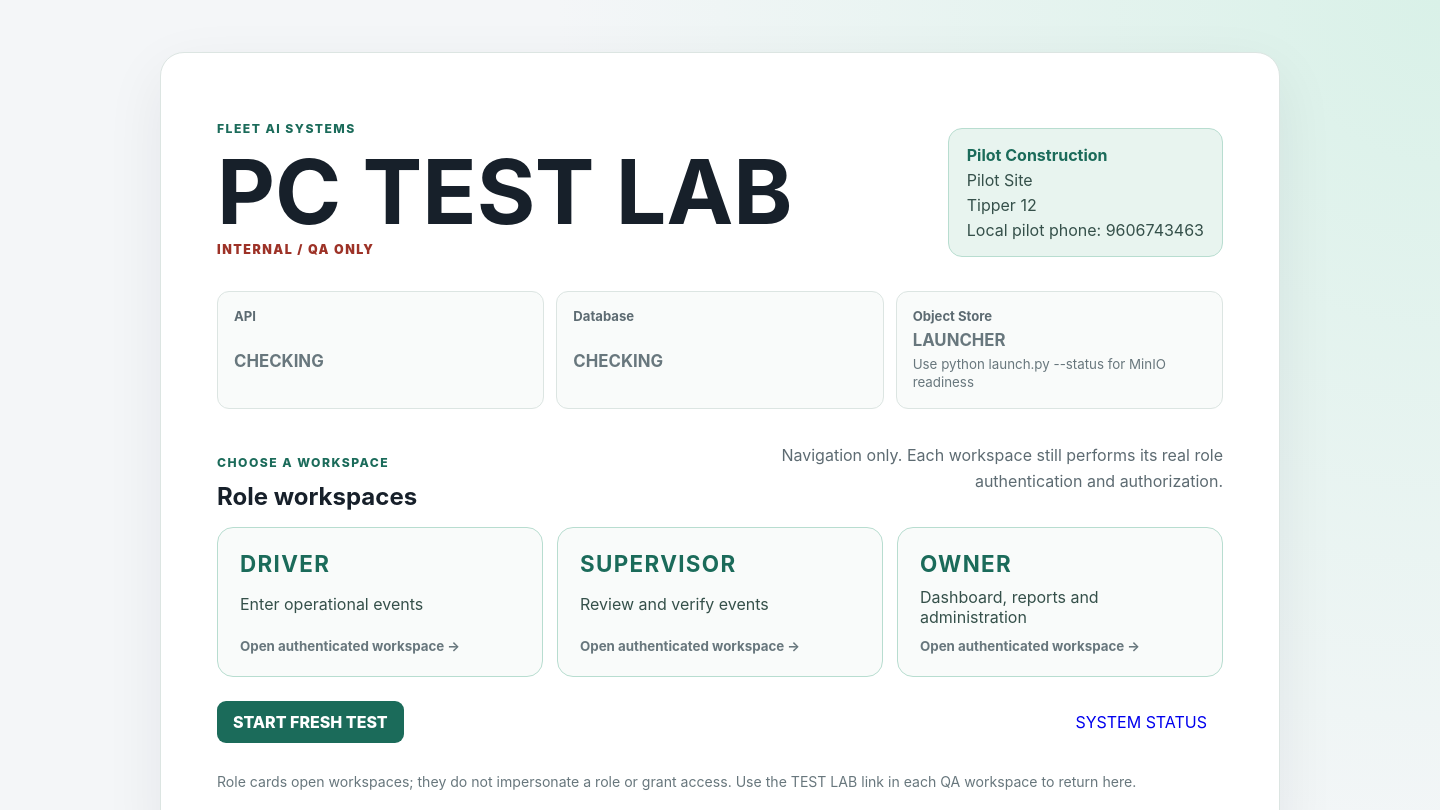
it: PC Test Lab home › explains that fresh testing stays in the launcher
The width and height of the screenshot is (1440, 810).
What coordinates should you click on to do the following:
click the button "START FRESH TEST"
I would click on:
 (310, 722)
Its box is 217,701 -> 404,743.
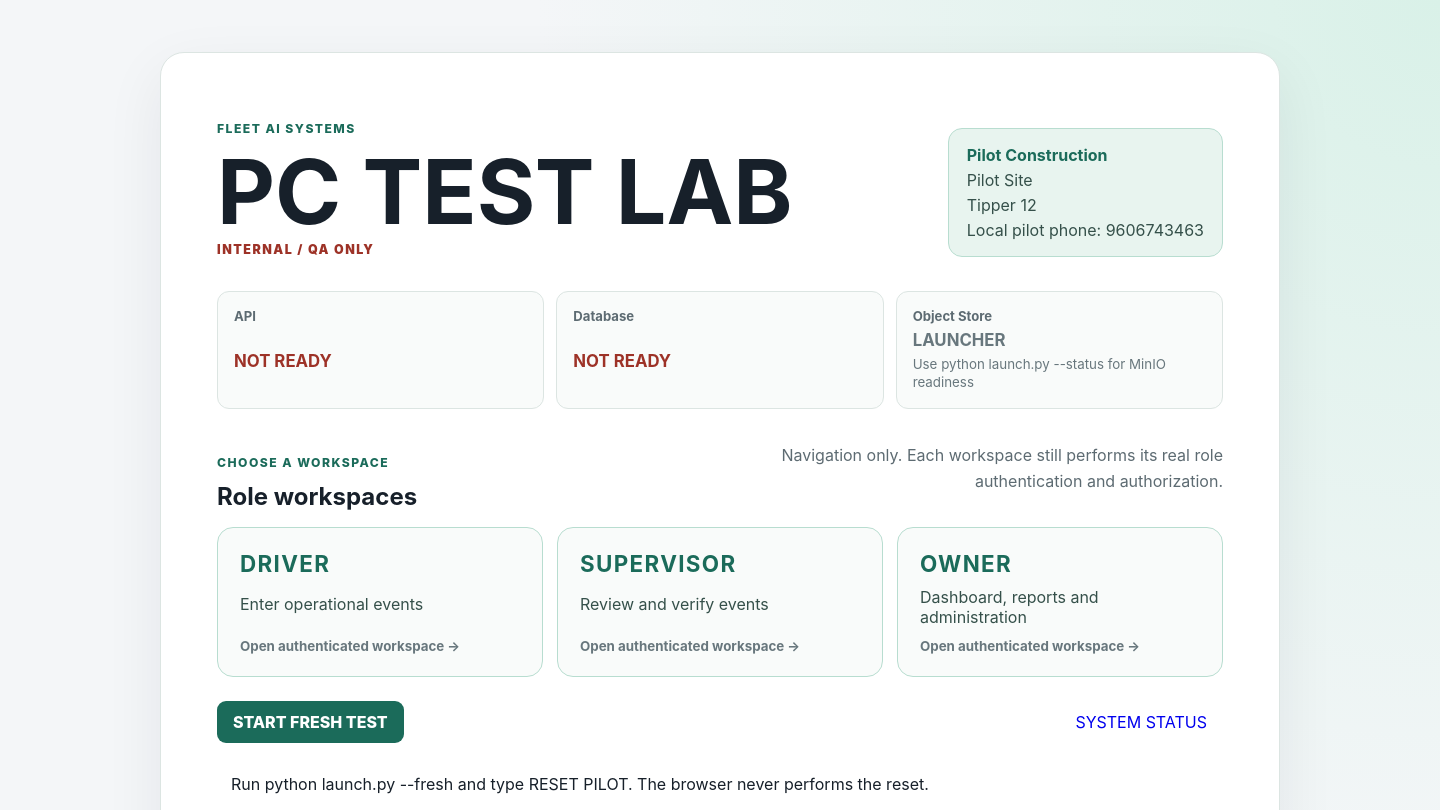
Now the message shows "python launch.py --fresh", box 231,774 -> 929,794
